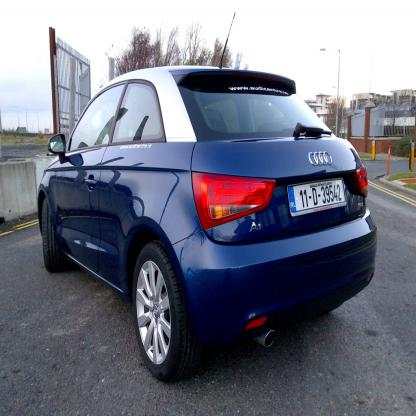Car: (38, 13, 378, 383)
